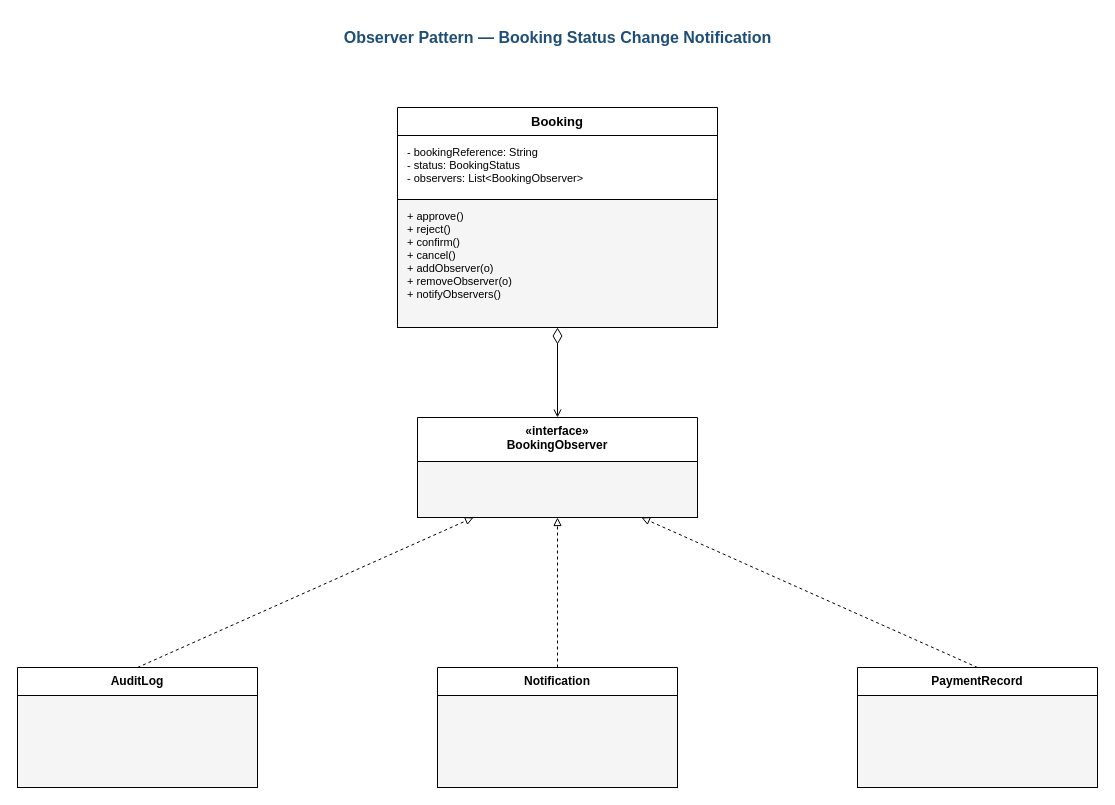
Image size: 1115x805. Some labels were removed from this diagram. The centre of each missing label's shape, as x and y in pixels:
"+ update(b) + logAction()" goes at (137,741).
"+ update(b) + send()" goes at (557,741).
"+ update(b) + updateStatus()" goes at (977,741).
"+ update(b: Booking)" goes at (557,489).
